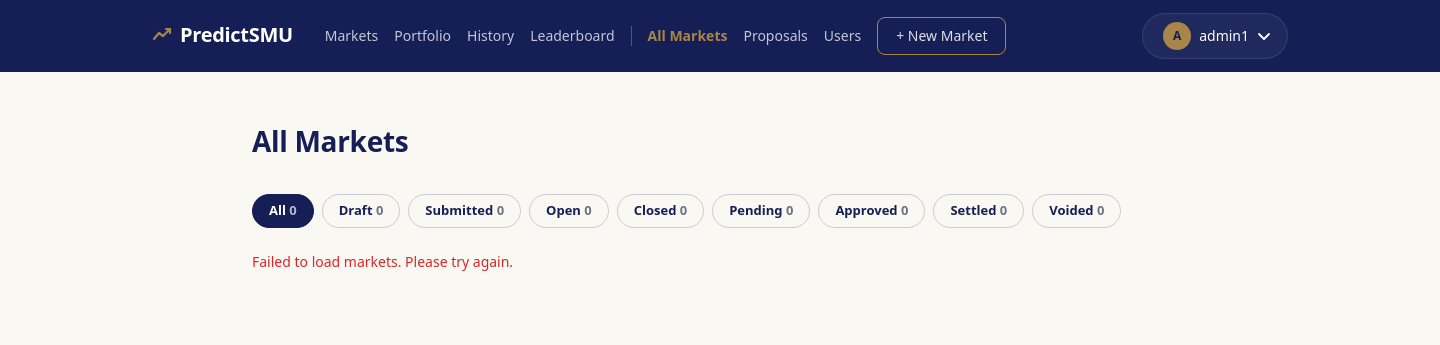
Scenario: AdminMarketsPage › shows the new filter's rows after the first page failed under the old one
Expected: the message "Failed to load markets. Please try again." is shown, [252,252,513,270]
Click the tab "Open 0" at (569, 211), box [529,194,609,228]
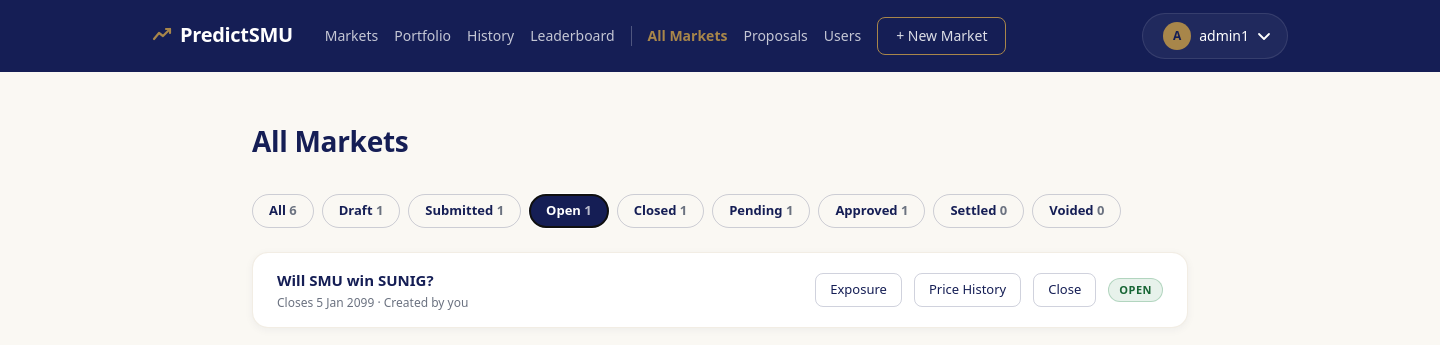
Now the text "Will SMU win SUNIG?" is shown, box [277,270,434,290]
Now the message "Failed to load markets. Please try again." is gone
